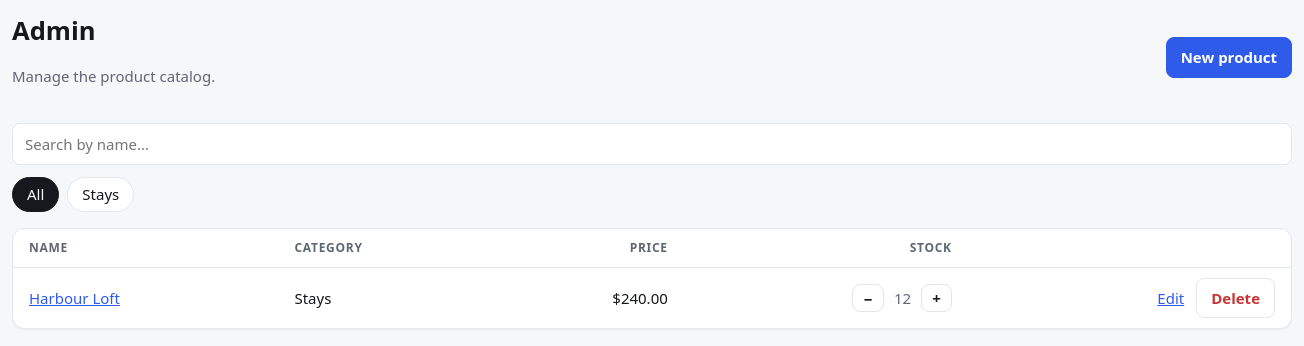
it: Admin catalog list › adjusts stock inline and shows the saved count
Expected: the table is shown, x1=13 y1=229 x2=1291 y2=328
Click the button named "Add one to Harbour Loft stock": (936, 298) x1=921 y1=284 x2=952 y2=312
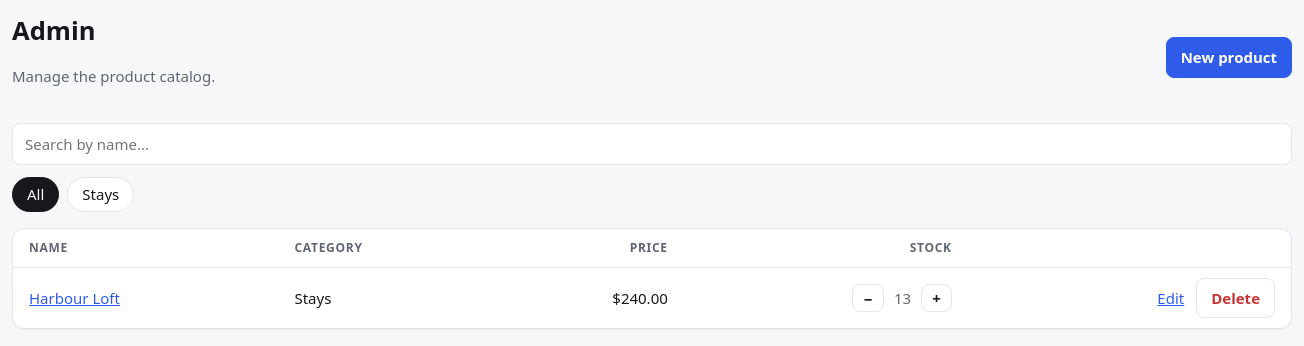
Now the text "13" is shown, box x1=894 y1=287 x2=911 y2=309
